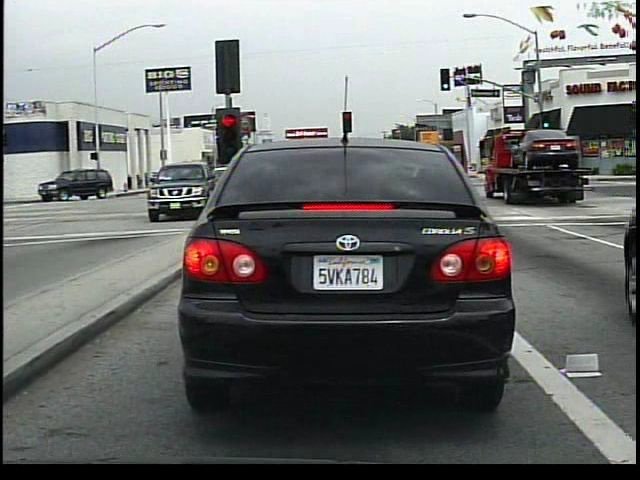person: (178, 172, 200, 197)
